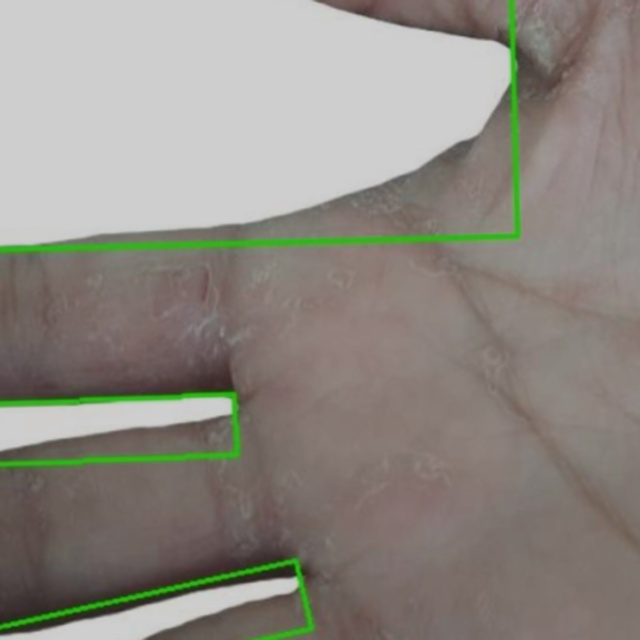Scabies: (0, 0, 517, 249), (0, 394, 236, 464)
